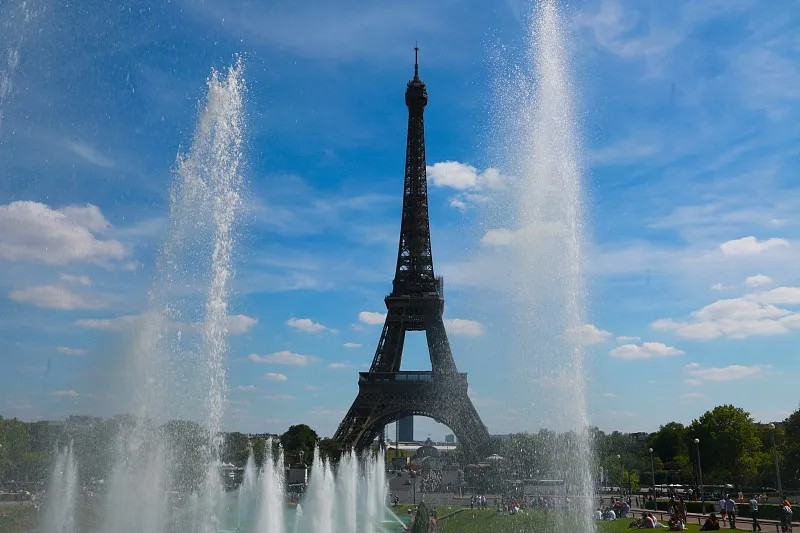Eiffel: (331, 41, 494, 462)
